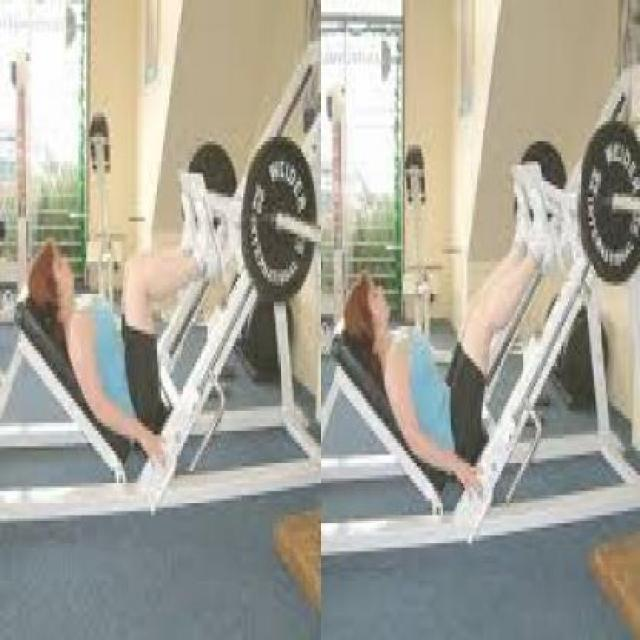leg press: (0, 35, 318, 542), (322, 85, 638, 557)
